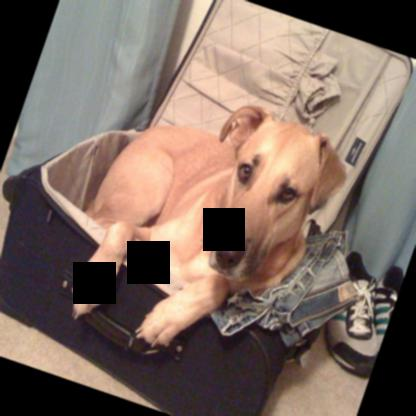suitcase: (0, 0, 411, 416)
